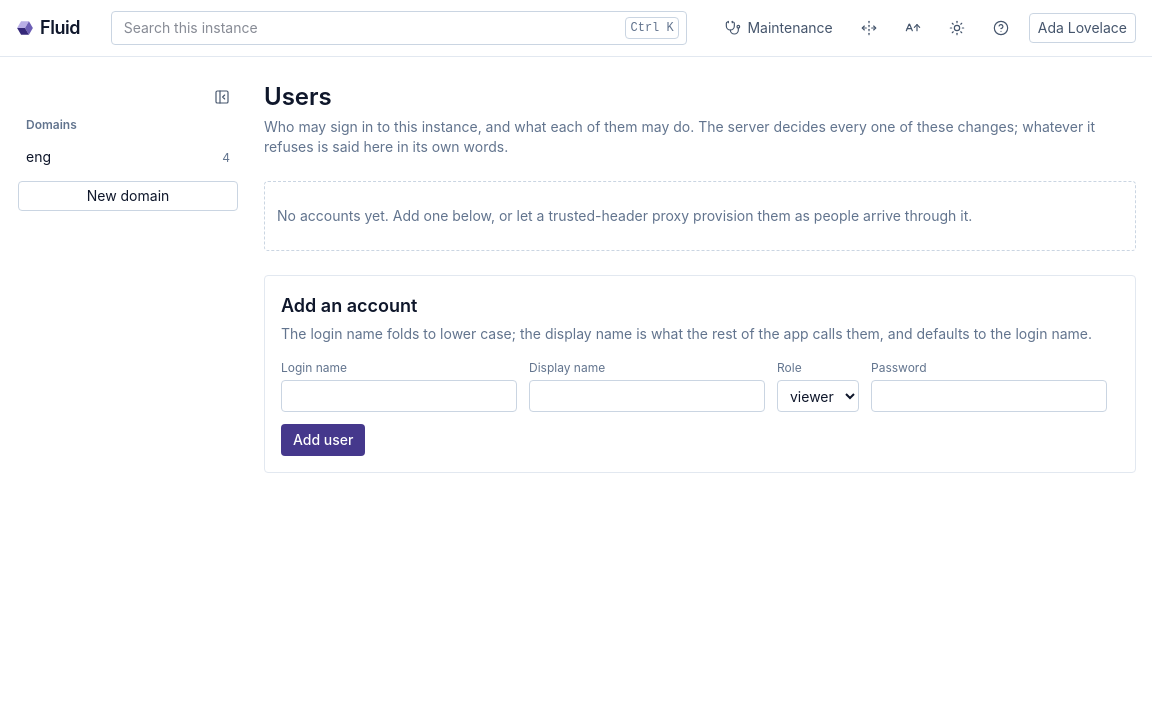
Test: registering a domain › checks Private and registers the domain private, owned by the creating account
This screenshot has width=1152, height=720.
Click the button "New domain". click: {"x": 128, "y": 196}
box: [18, 181, 238, 211]
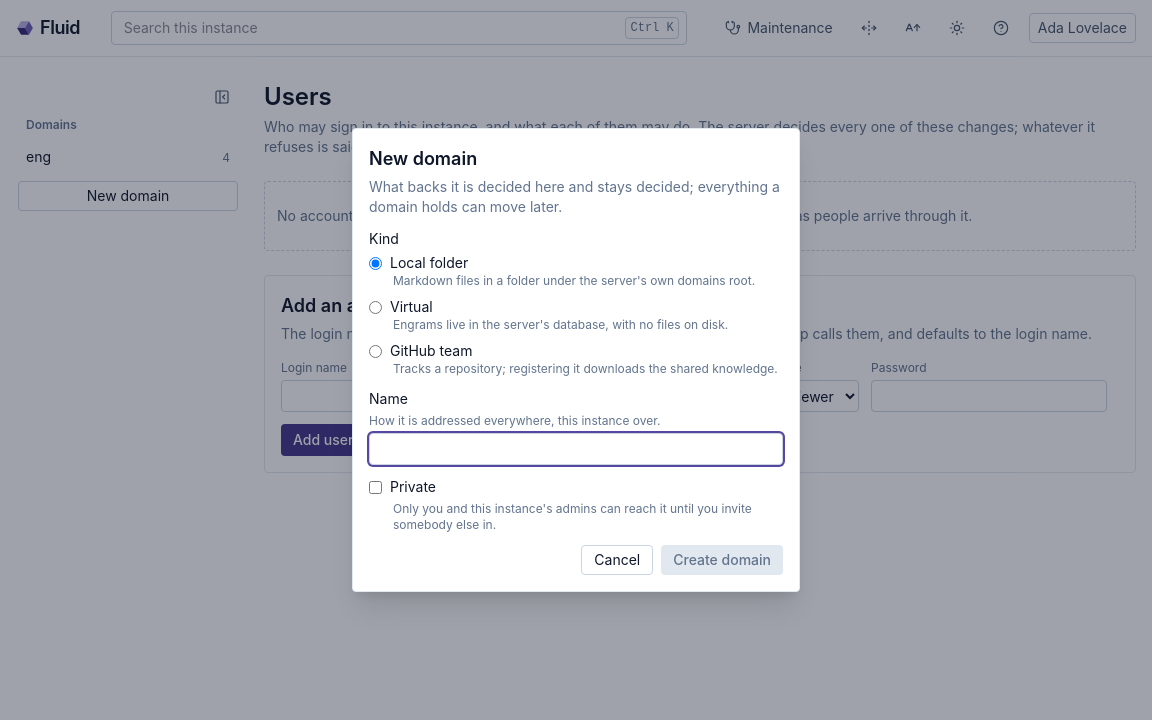
Type "notes" into the field labelled "Name". click: {"x": 576, "y": 449}
box: [369, 433, 783, 465]
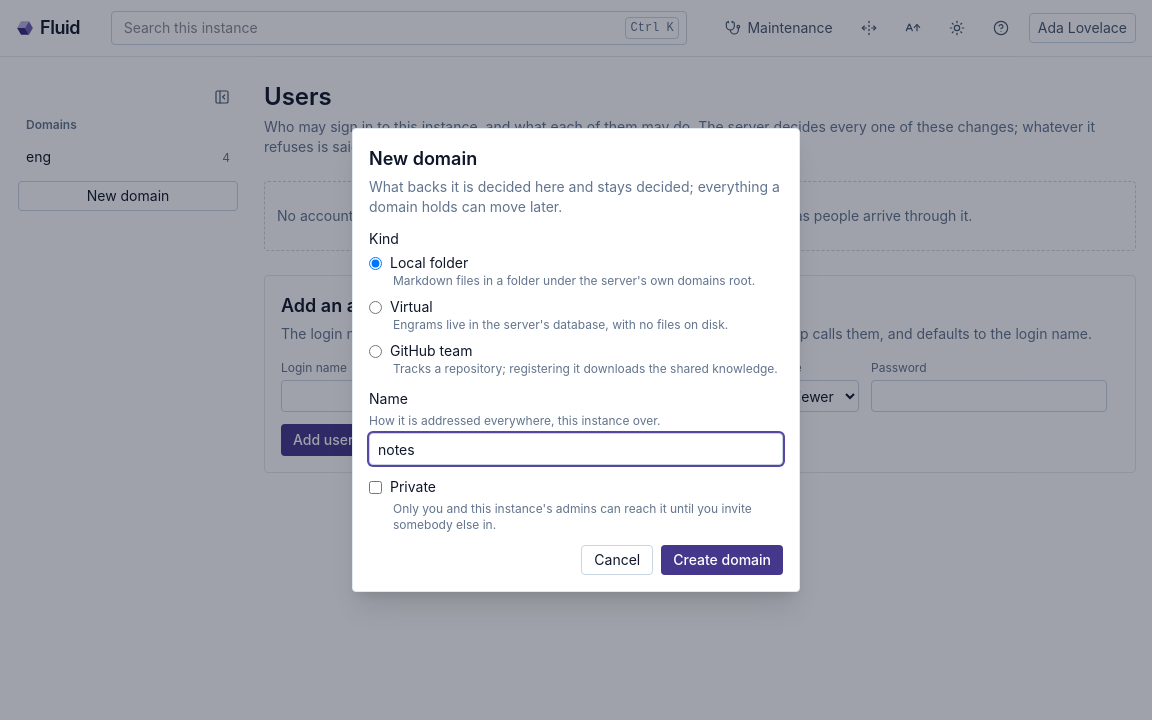
Click the checkbox labelled "Private". click: {"x": 376, "y": 487}
box: [369, 480, 382, 494]
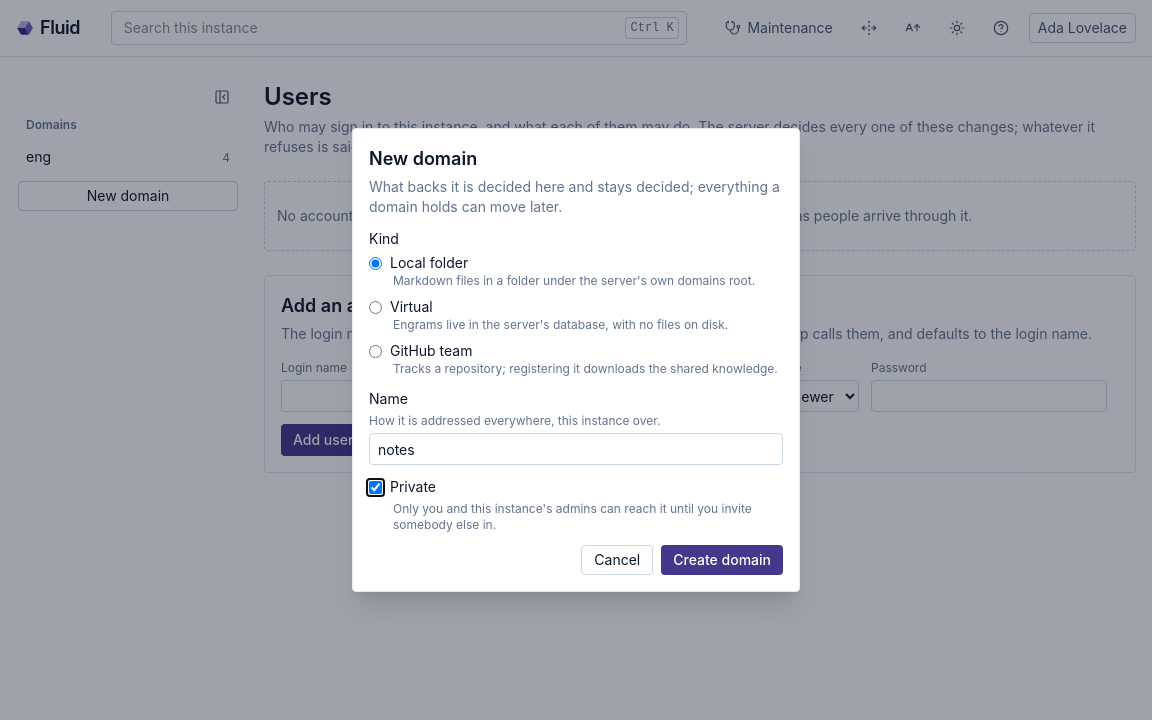
Click the button "Create domain". click: {"x": 722, "y": 560}
box: [661, 545, 783, 575]
(page scrolled)
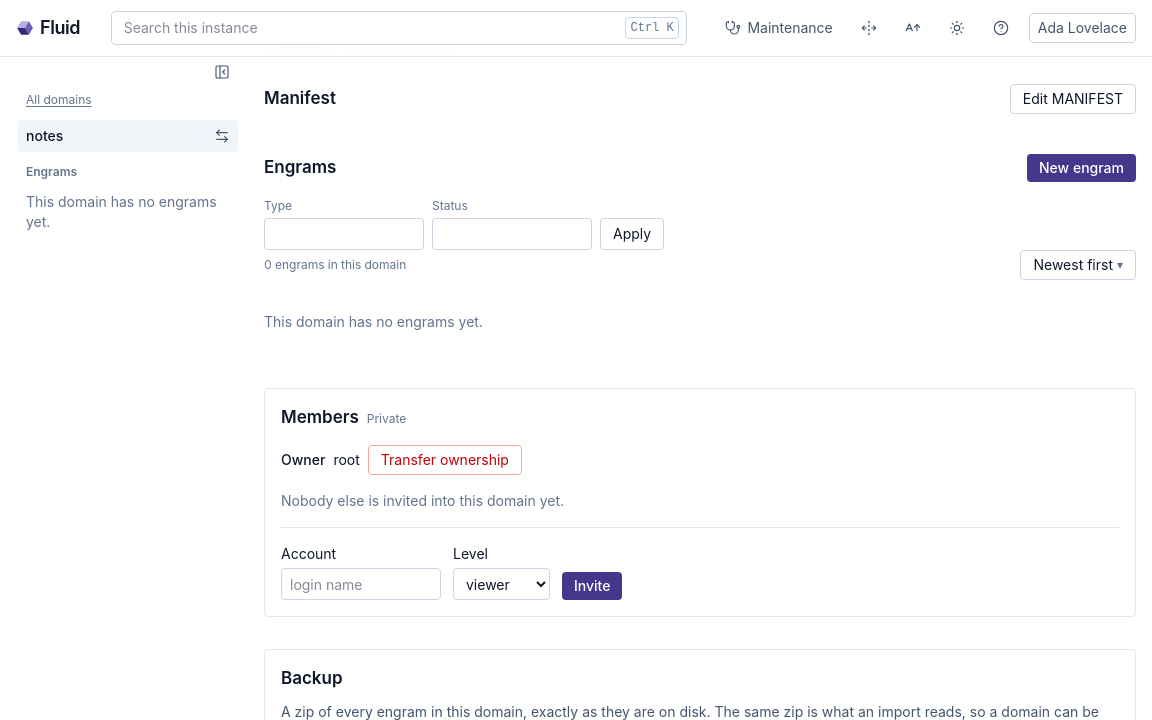
Expected: the heading "notes" is shown, [264, 20, 329, 52]
